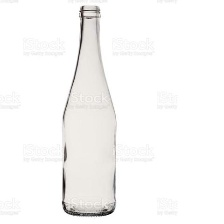bottle: (55, 2, 126, 218)
